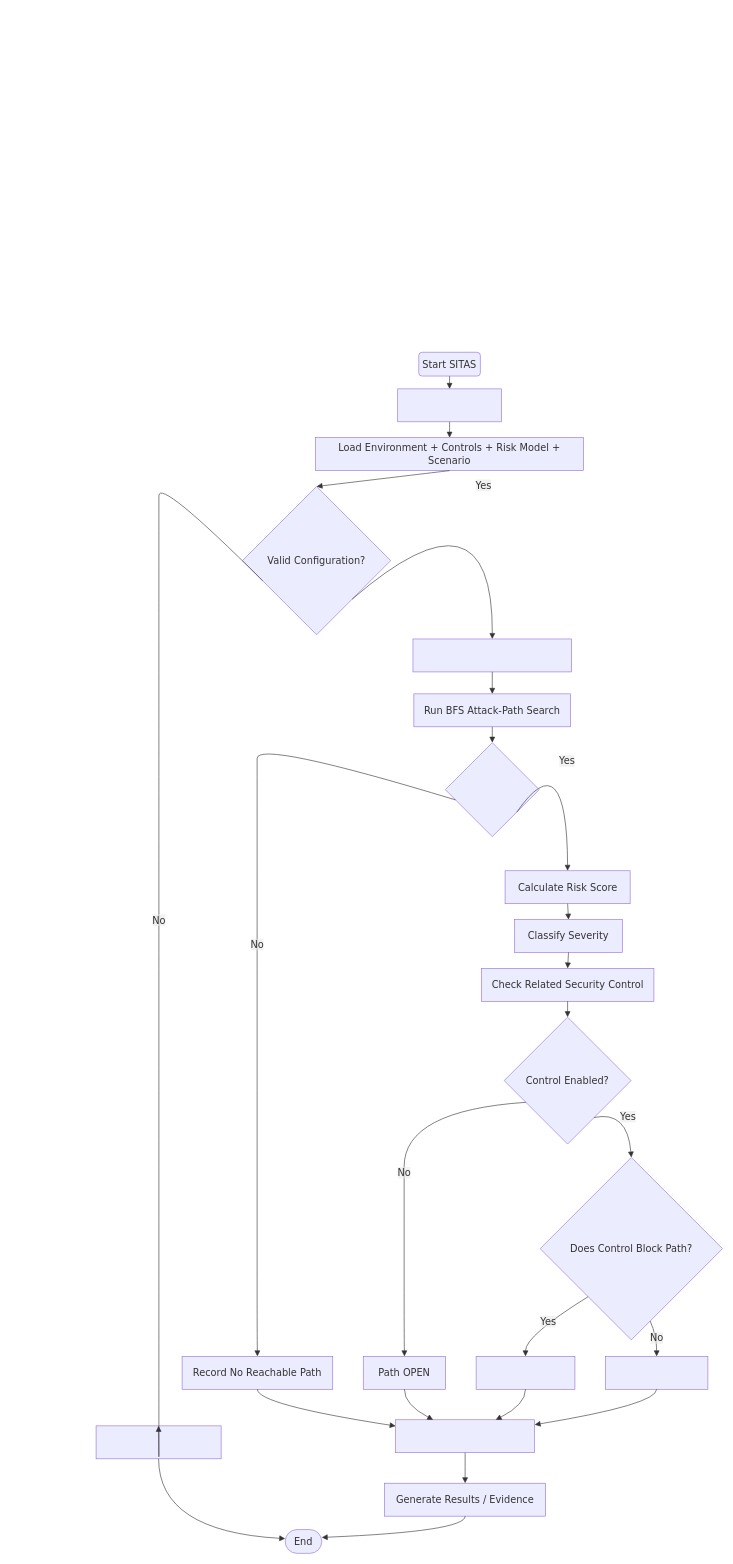
The diagram is 733 pixels wide and 1564 high, and some of its shapes have lost their labels. Here are the shapes that lost their labels. From the top down, the centre of each, then its label:
point (449, 405): Select Scenario
point (492, 655): Build Directed Attack Graph
point (492, 789): Path Found?
point (525, 1372): Path BLOCKED
point (656, 1372): Path Still OPEN
point (158, 1442): Show Error and Stop
point (465, 1436): Create Security Finding
